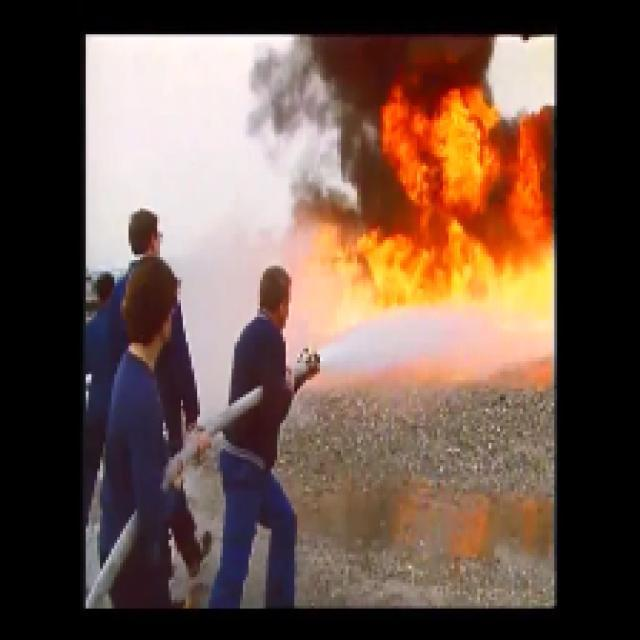Fire: (345, 101, 554, 292)
Smoke: (302, 28, 474, 84)
